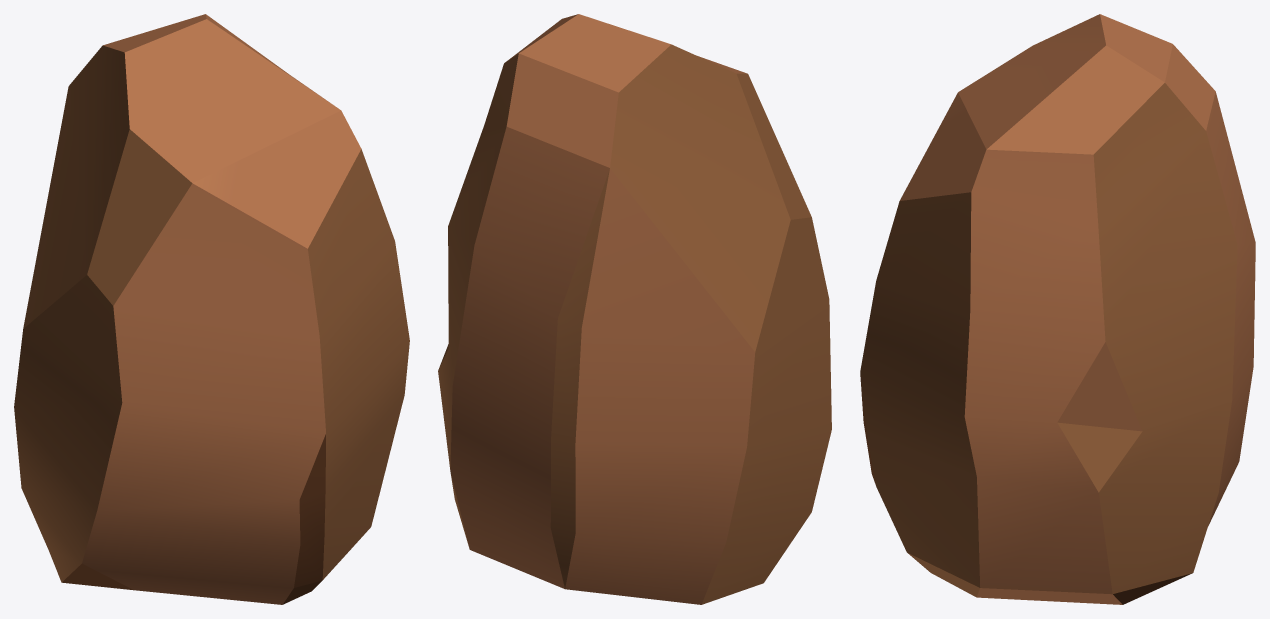
File: StoneA_2_LPC_Brown.fbx
3 views of the same model, side by side, from view 1: azimuth 30°, elevation 25°; view 2: azimuth 150°, elevation 25°; view 3: azimuth 270°, elevation 25° (orthographic). The views are drawn at different scales.
Parts seen in each view (by area): view 1: StoneA_a_LP001; view 2: StoneA_a_LP001; view 3: StoneA_a_LP001.
Boxes of the visible parts, <box> form: StoneA_a_LP001: <box>14,14,409,604</box>; StoneA_a_LP001: <box>438,14,831,604</box>; StoneA_a_LP001: <box>860,14,1255,604</box>.
Bounding box in the file's own units: 5743 × 8975 × 6206.
